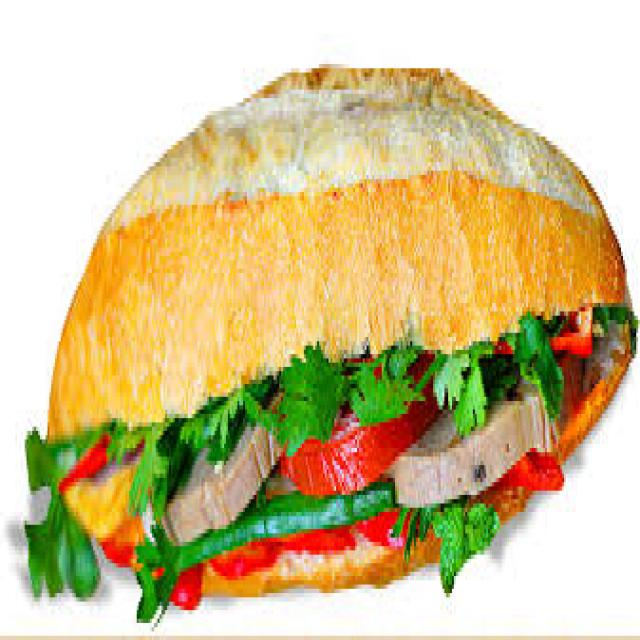banh mi: (46, 66, 638, 610)
